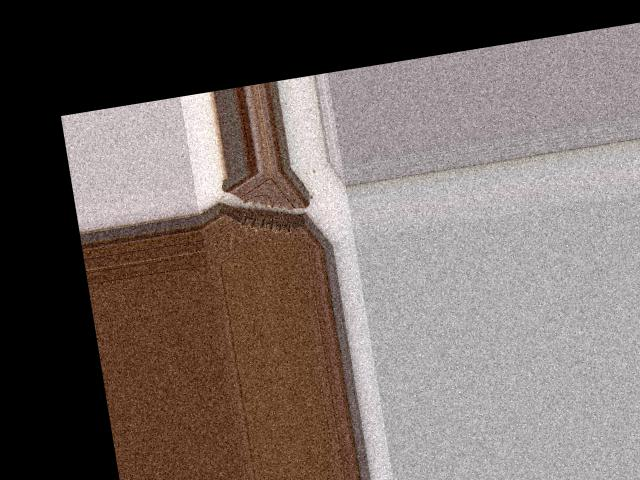chocolate: (194, 162, 333, 263)
